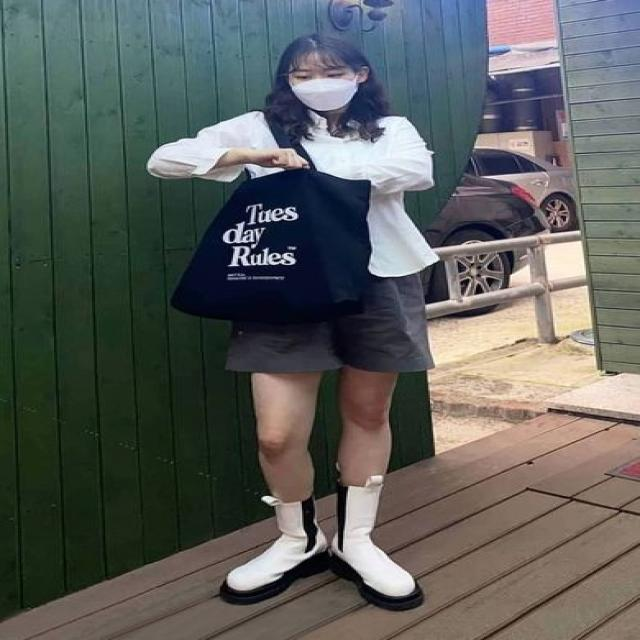ecobag: (154, 129, 399, 311)
